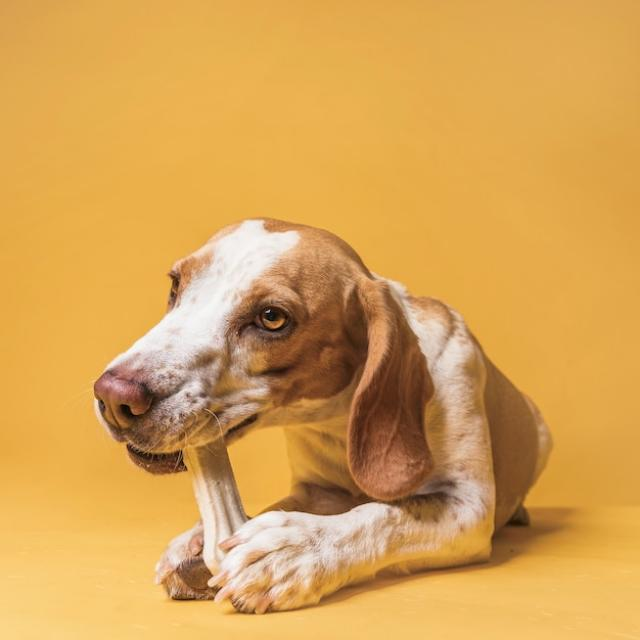Dog: (95, 218, 554, 614)
